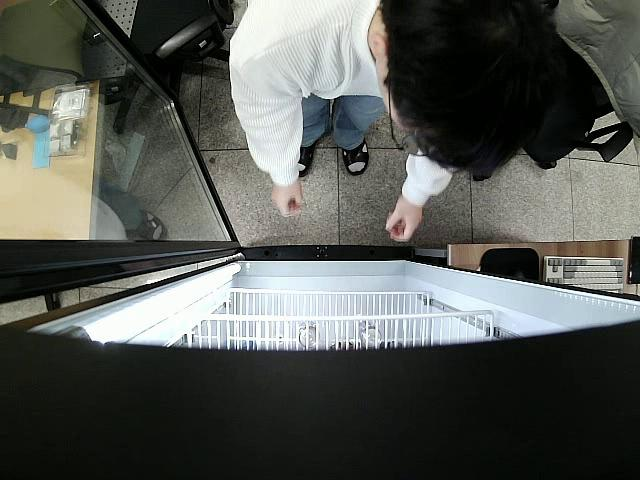00_hand: (382, 192, 424, 242), (270, 181, 307, 219)
